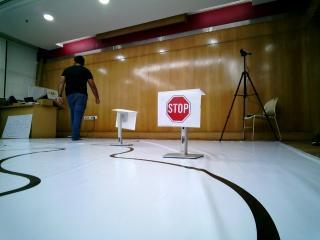stop: (157, 96, 199, 126)
